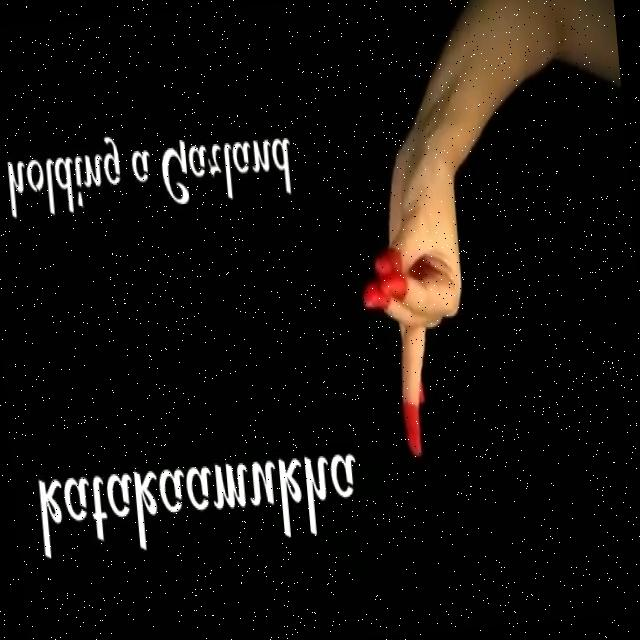Katakamukha: (346, 128, 506, 478)
text: (28, 424, 370, 578), (0, 105, 306, 250)
